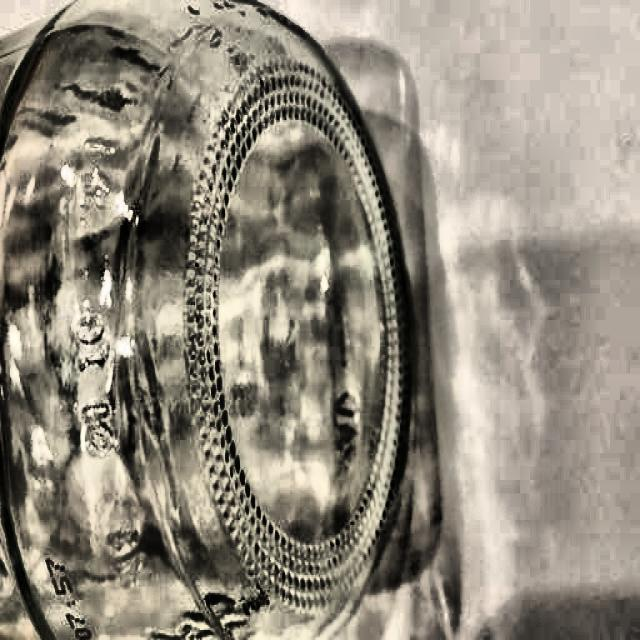glass: (0, 0, 421, 640)
